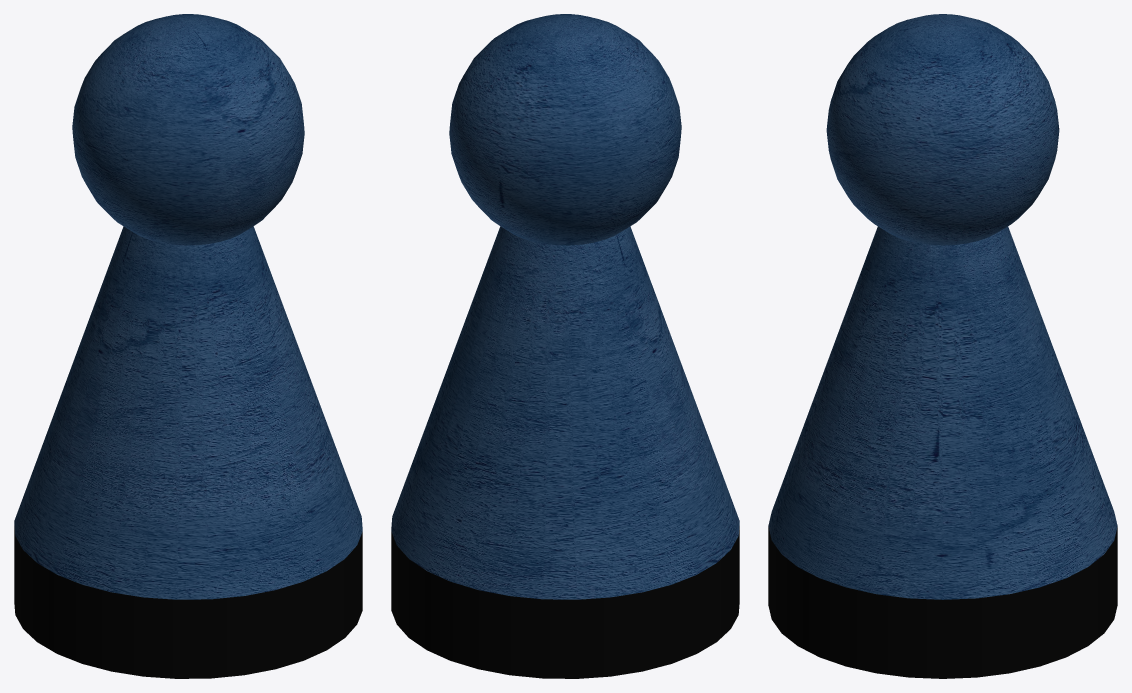
File: Player1.fbx
3 views of the same model, side by side, from view 1: azimuth 30°, elevation 25°; view 2: azimuth 150°, elevation 25°; view 3: azimuth 270°, elevation 25° (orthographic).
Parts seen in each view (by area): view 1: Player1 Body, Player1 Head, Player1 Bottom; view 2: Player1 Body, Player1 Head, Player1 Bottom; view 3: Player1 Body, Player1 Head, Player1 Bottom.
Part boxes in pixels (left/top/right/bottom): Player1 Body: left=14, top=226, right=362, bottom=599; Player1 Head: left=72, top=14, right=304, bottom=245; Player1 Bottom: left=14, top=526, right=362, bottom=678; Player1 Body: left=391, top=226, right=739, bottom=599; Player1 Head: left=449, top=14, right=681, bottom=245; Player1 Bottom: left=391, top=526, right=739, bottom=678; Player1 Body: left=768, top=226, right=1117, bottom=599; Player1 Head: left=826, top=14, right=1059, bottom=245; Player1 Bottom: left=768, top=527, right=1117, bottom=678.
Size of the model in its own units: 60 by 110 by 60.
Materials: 2 (1 with a texture image).
